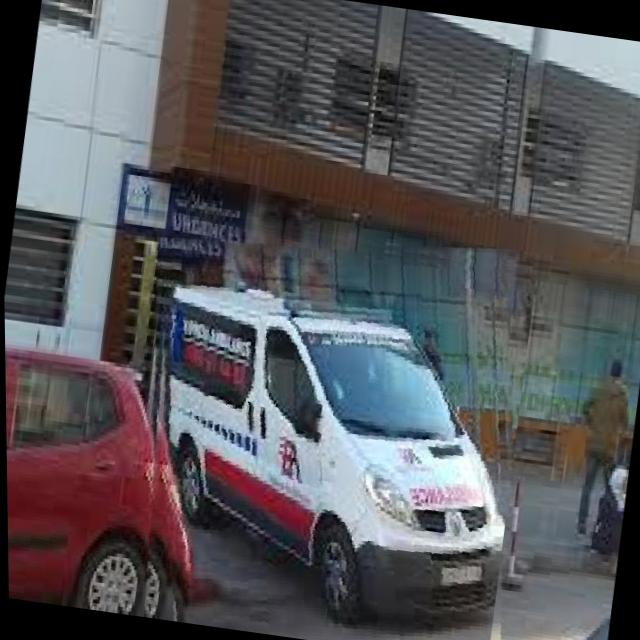ambulance: (113, 209, 541, 640)
